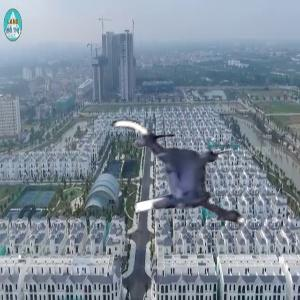drone: (97, 101, 245, 249)
